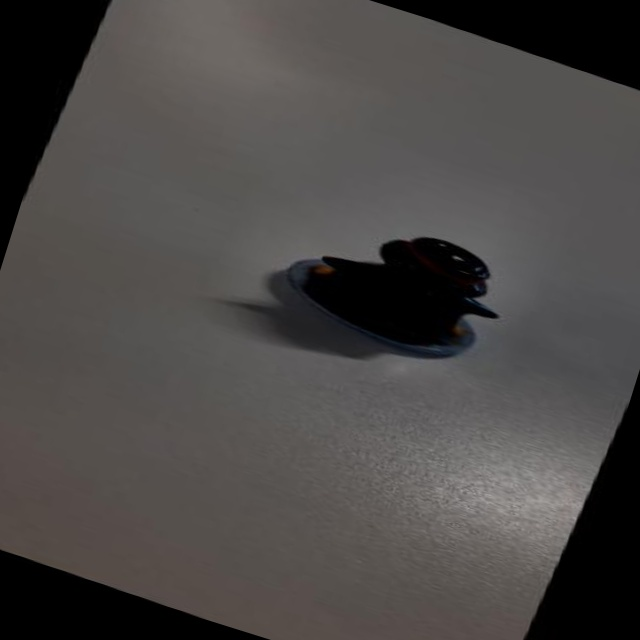Penguin: (265, 189, 526, 384)
